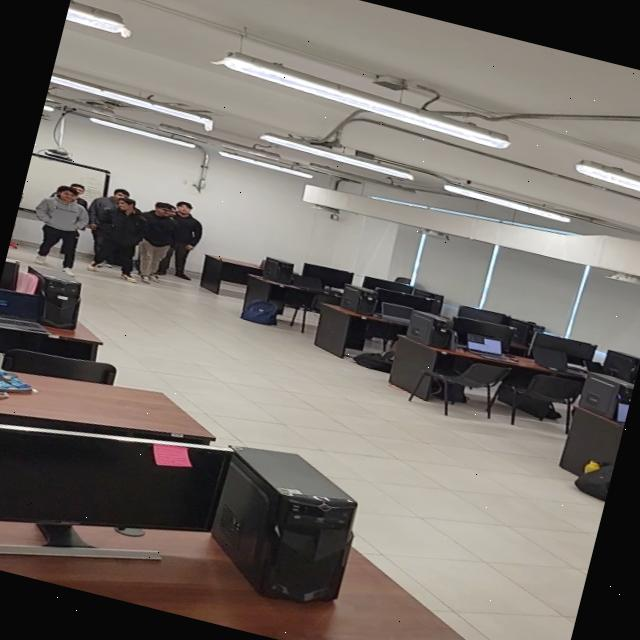Persona: (24, 180, 96, 277), (84, 190, 151, 283), (128, 199, 184, 288), (159, 198, 212, 282)
